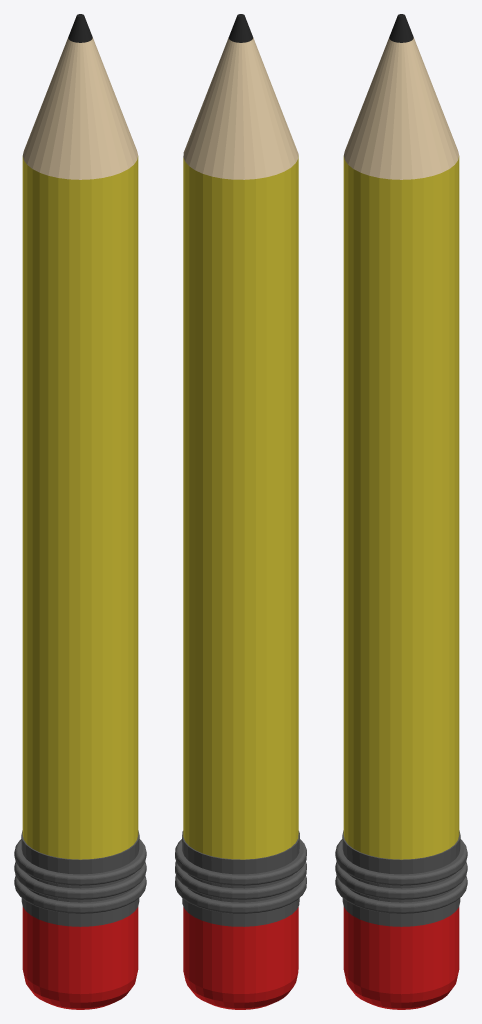
File: penildov2.fbx
3 views of the same model, side by side, from view 1: azimuth 90°, elevation 25°; view 2: azimuth 150°, elevation 25°; view 3: azimuth 270°, elevation 25° (orthographic).
Parts seen in each view (by area): view 1: corpo, ponta; view 2: corpo, ponta; view 3: corpo, ponta.
Part boxes in pixels (<box>): corpo: <box>14,37,146,1009</box>; ponta: <box>68,14,92,42</box>; corpo: <box>175,38,306,1009</box>; ponta: <box>228,14,253,42</box>; corpo: <box>335,37,467,1009</box>; ponta: <box>389,14,413,42</box>.
Bounding box in the file's own units: 133 × 1083 × 133.
